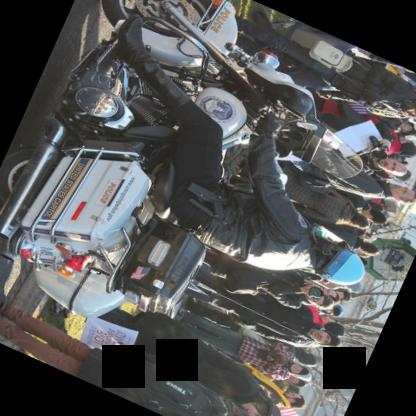backpack: (120, 360, 226, 416)
handbag: (308, 40, 367, 86), (221, 268, 285, 295), (296, 171, 347, 203), (374, 120, 392, 142)
